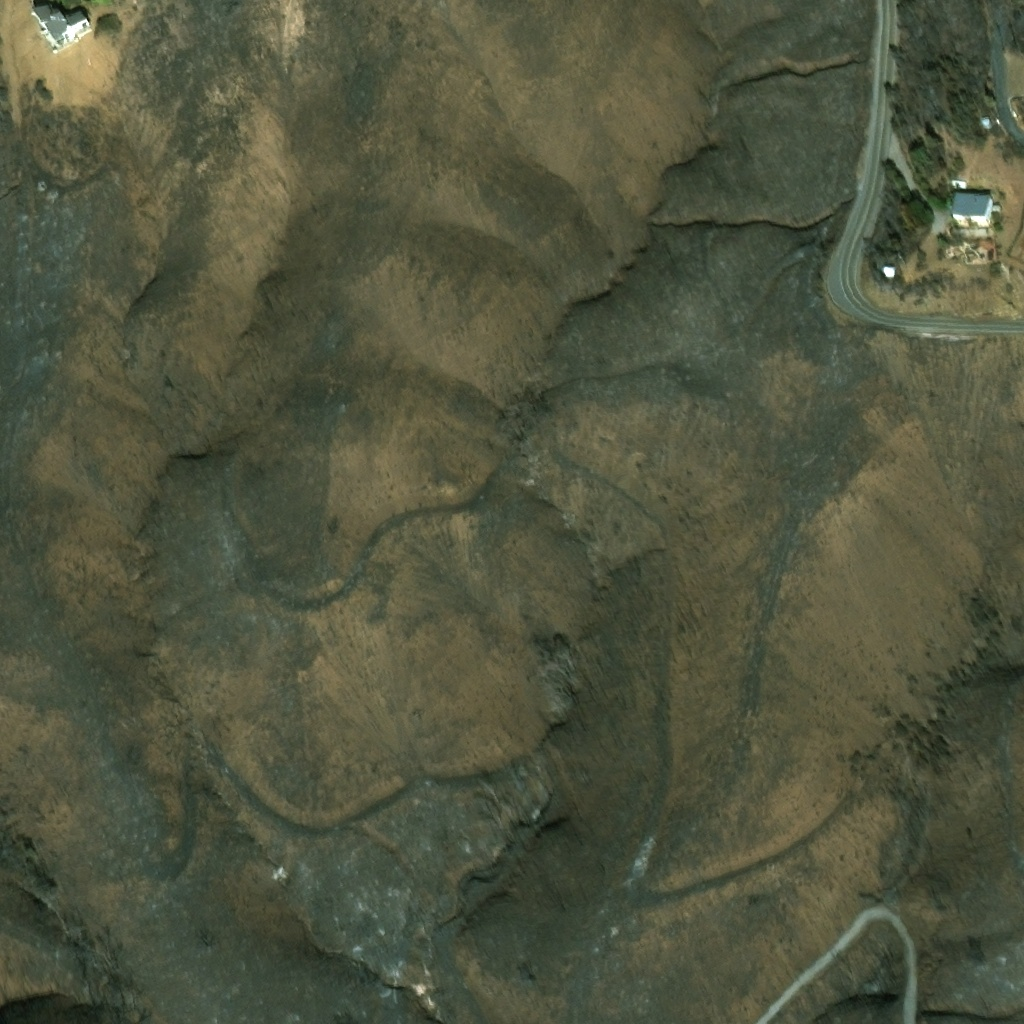0 no-damage: (32, 5, 91, 51), (950, 188, 992, 222)
